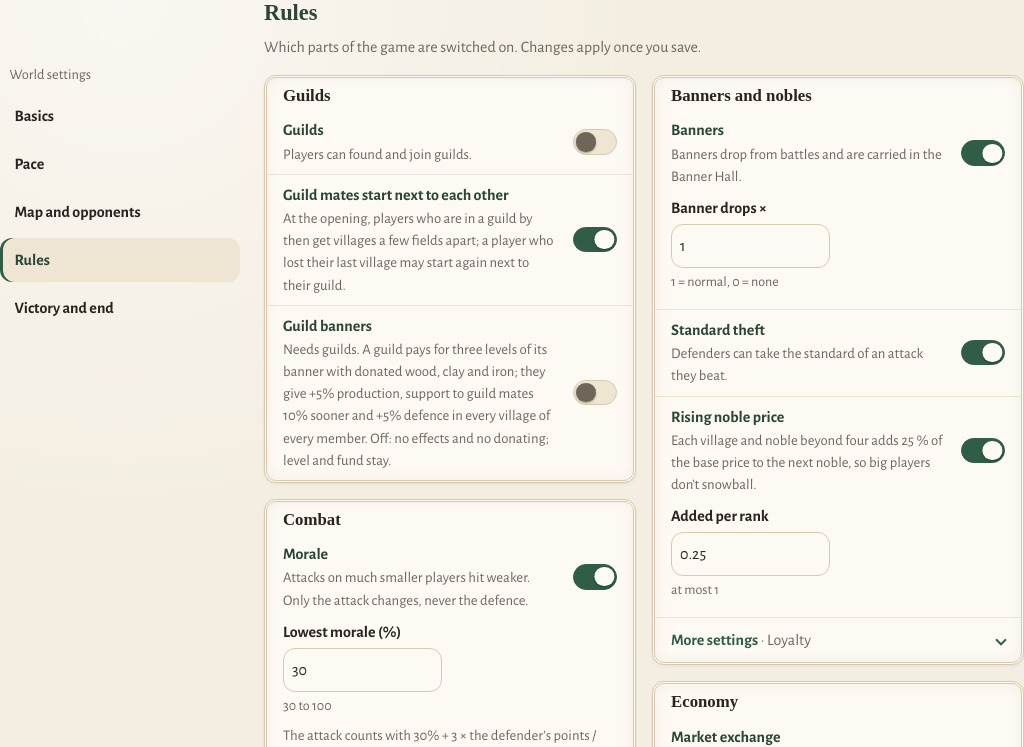
WorldTab: one save bar for every section (1.6) › names a wrong row and keeps Save off until it is fixed
Replace the text in the number field labelled "Lowest morale (%)" with "10" at (362, 670), box [283,648,442,692]
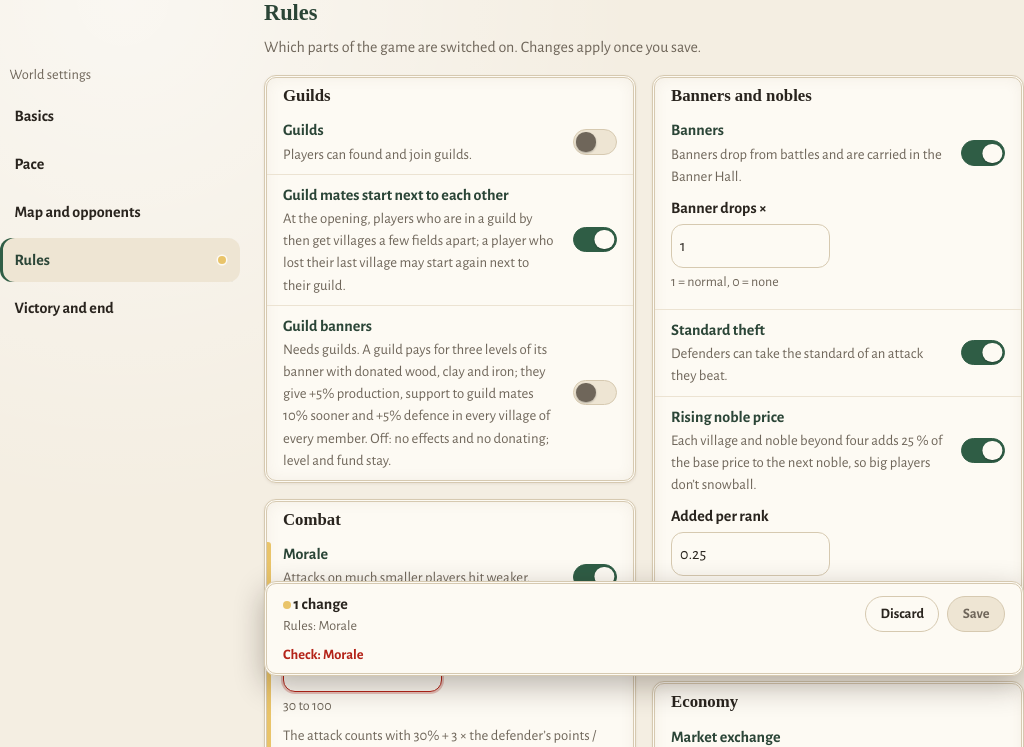
Expected: the element "1 change Rules: Morale Discard Save Check: Morale" is shown, [264,580,1023,676]
Expected: the button "Save" is disabled, [947,595,1005,631]
